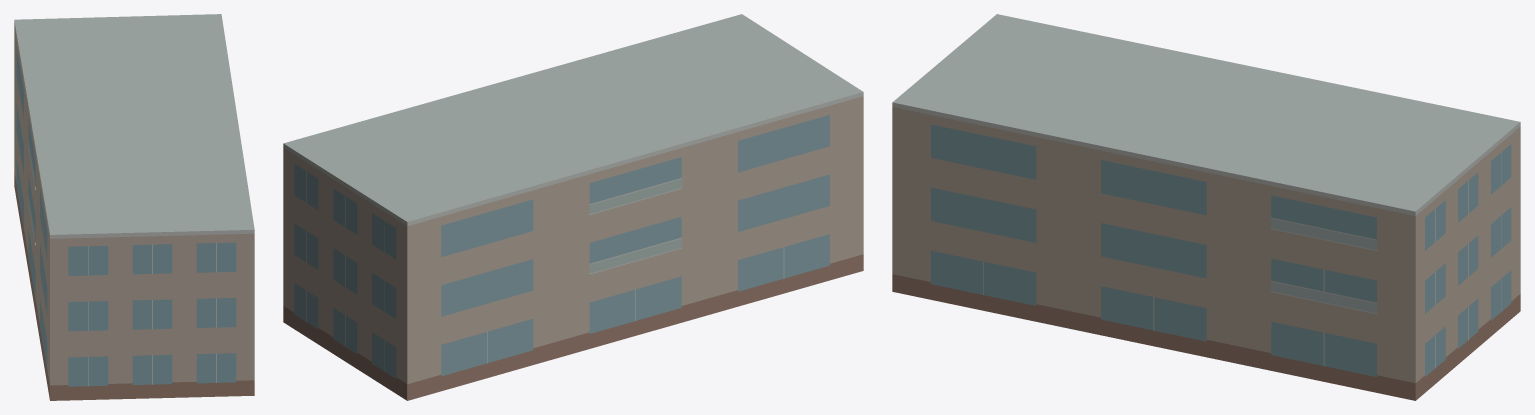
Rendered from survey-upis-32885019.glb.
The picture shows the model from 3 angles, left to right: view 1: azimuth 30°, elevation 25°; view 2: azimuth 150°, elevation 25°; view 3: azimuth 270°, elevation 25°; orthographic projection. The views are drawn at different scales.
Parts seen in each view (by area): view 1: survey-upis-32885019.tmp; view 2: survey-upis-32885019.tmp; view 3: survey-upis-32885019.tmp.
Part boxes in pixels (x1,y1,x2,y2): survey-upis-32885019.tmp: [14, 14, 254, 400]; survey-upis-32885019.tmp: [283, 14, 863, 400]; survey-upis-32885019.tmp: [892, 14, 1520, 400].
Size of the model in its own units: 23.29 by 10.4 by 31.29.
